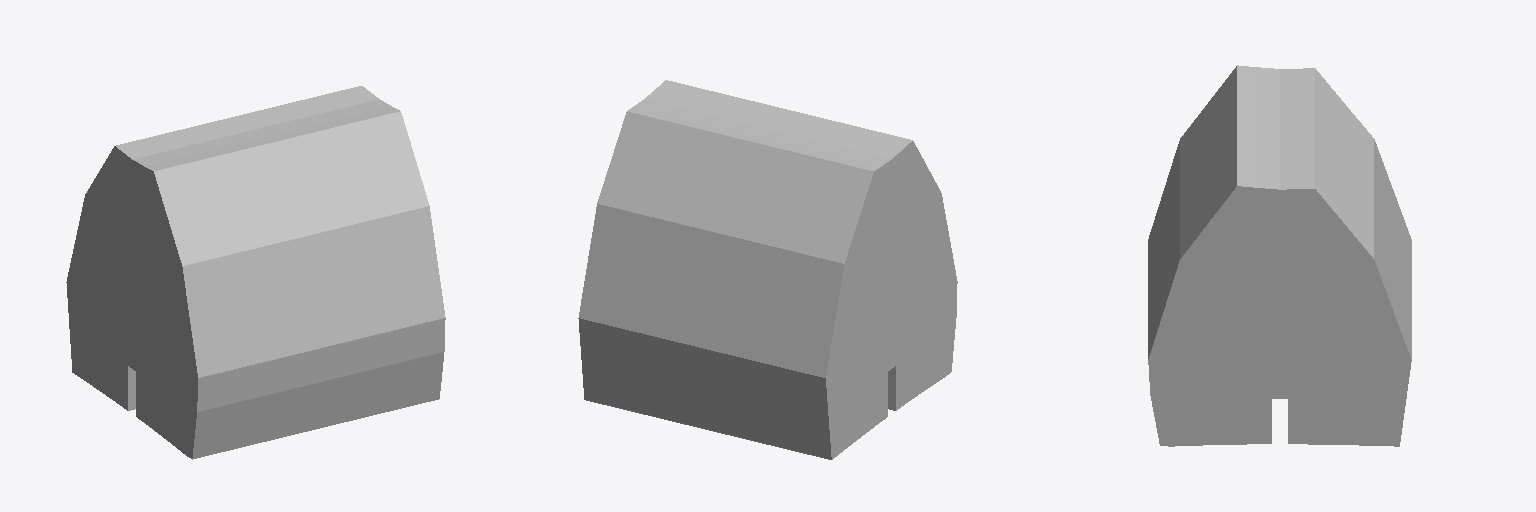
The picture shows the model from 3 angles: view 1: azimuth 30°, elevation 25°; view 2: azimuth 150°, elevation 25°; view 3: azimuth 270°, elevation 25°; orthographic projection.
Parts seen in each view (by area): view 1: test2; view 2: test2; view 3: test2.
Part boxes in pixels (left/top/right/bottom): test2: left=66, top=86, right=445, bottom=459; test2: left=578, top=80, right=957, bottom=459; test2: left=1148, top=65, right=1411, bottom=446.
Bounding box in the file's own units: 1 × 1.01 × 0.9227.